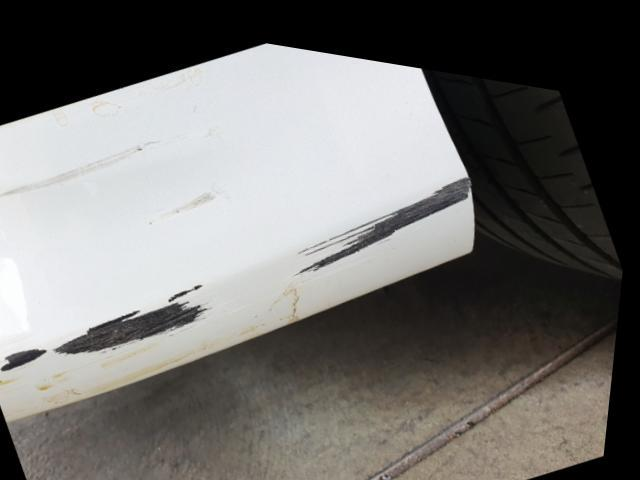scratch: (0, 158, 477, 388)
